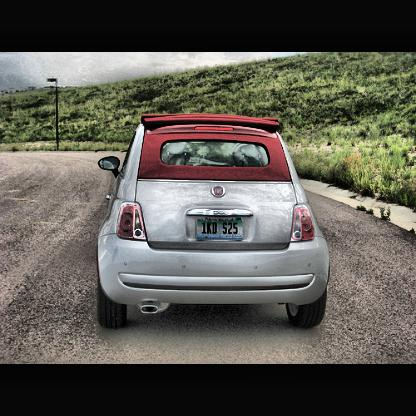FIAT 500 Convertible 2012: (97, 114, 332, 331)
